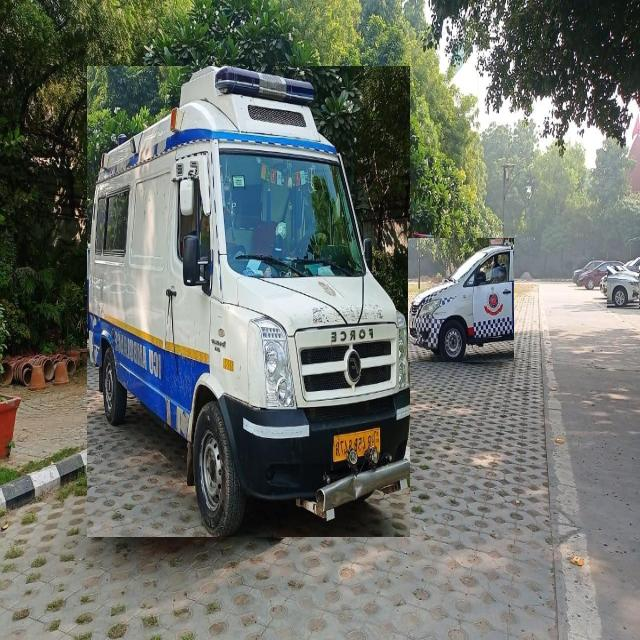car: (409, 238, 514, 362), (608, 266, 639, 308)
emergency: (88, 66, 410, 537)
